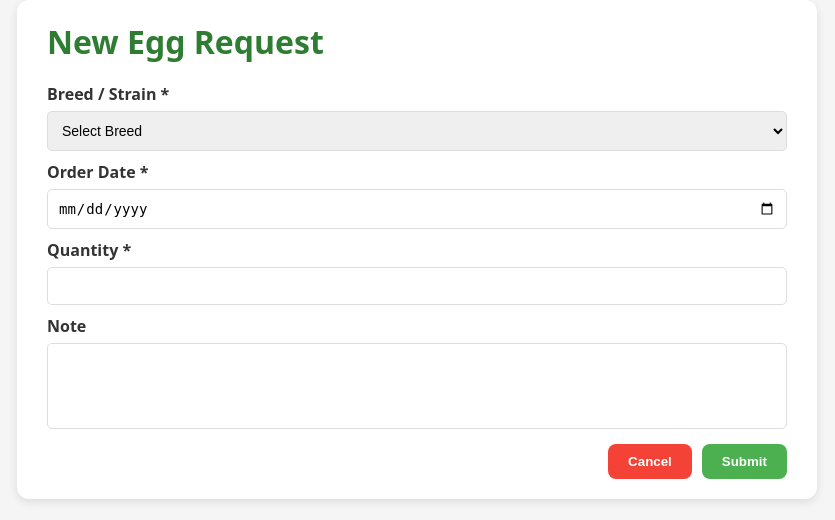
Scenario: MakeRequest Component › clears form on cancel
Expected: the heading "New Egg Request" is shown, [47, 20, 324, 63]
Step 1. Type "5" into the number field → point(417, 286), box [47, 267, 787, 305]
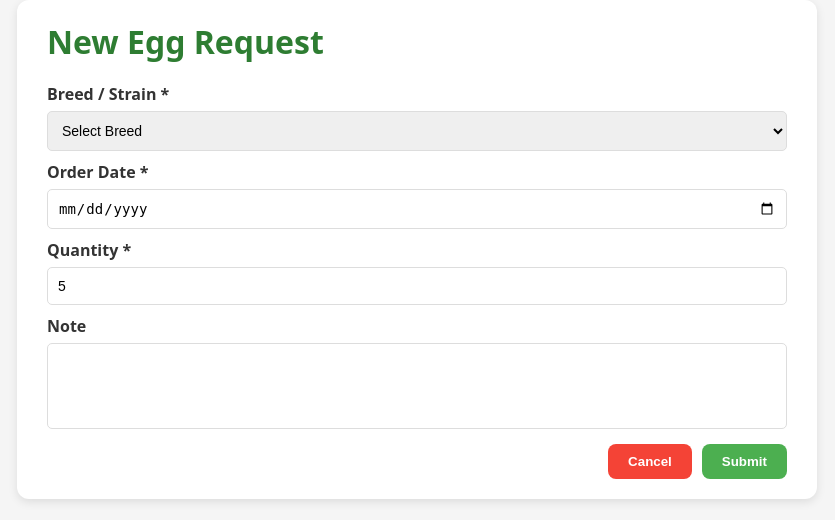
Step 2. Click the button "Cancel" → point(650, 462), box [608, 444, 692, 479]
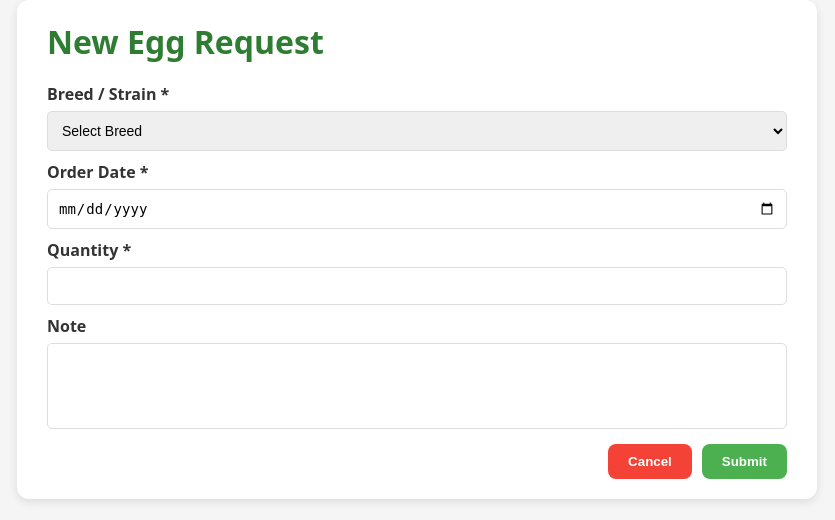
Now the number field is empty, box [47, 267, 787, 305]
